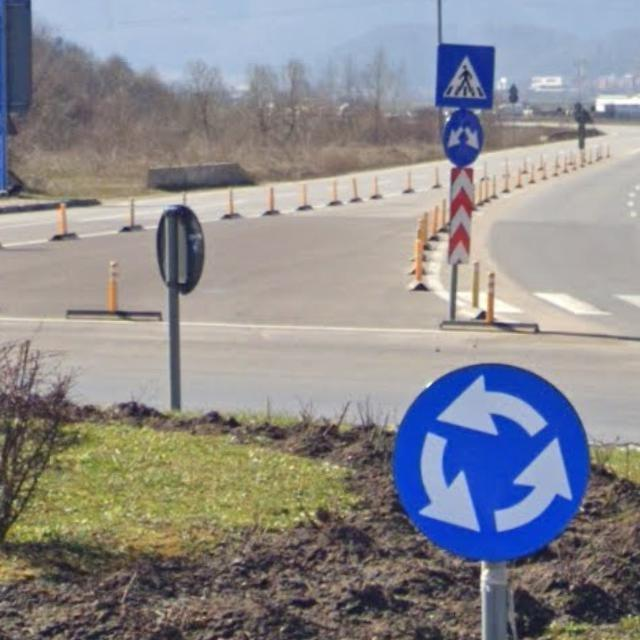info_crosswalk: (435, 44, 497, 109)
